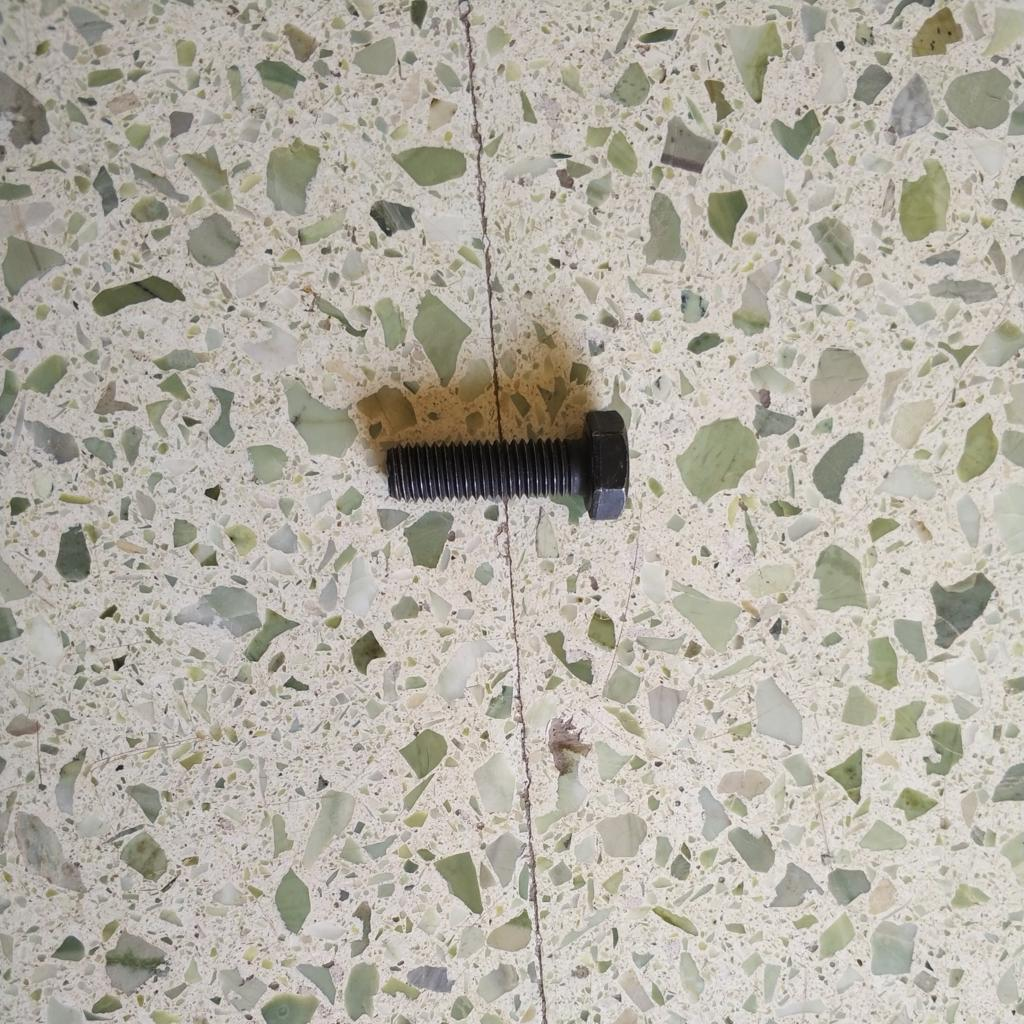screwtype2black: (382, 404, 637, 532)
